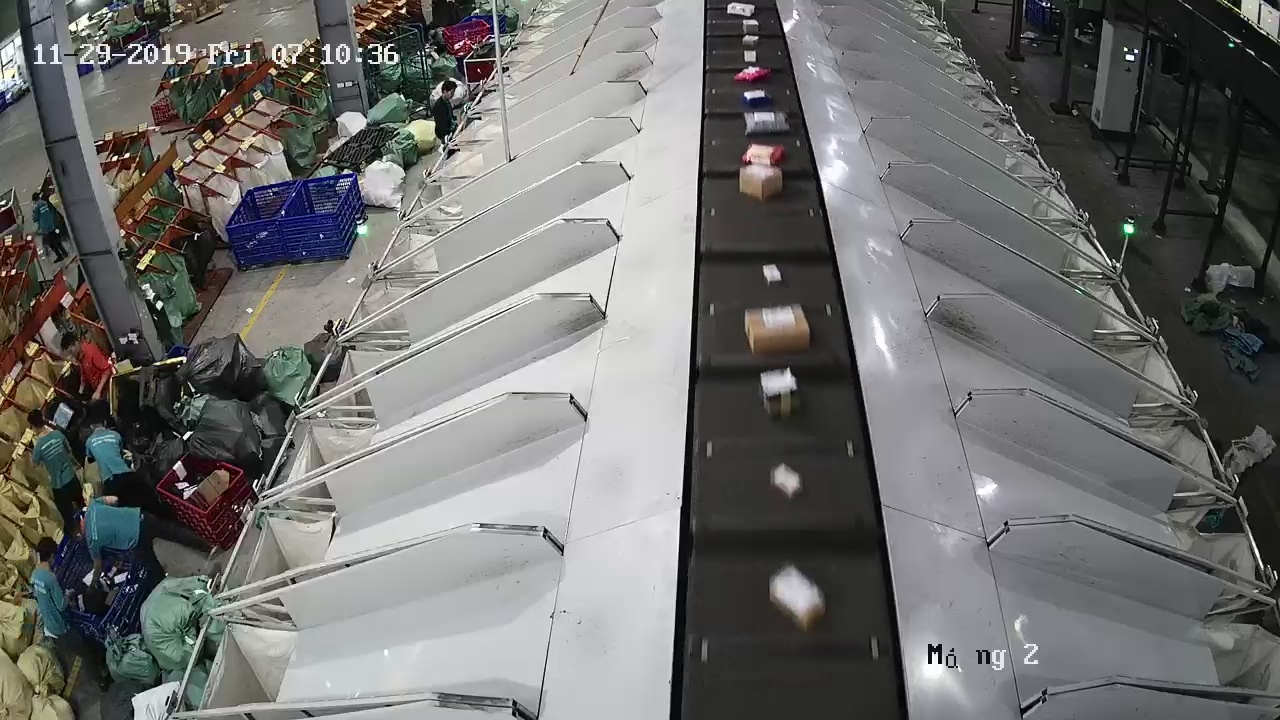parcel: (769, 564, 826, 633), (744, 303, 811, 355), (758, 366, 798, 416), (738, 164, 783, 201), (770, 462, 804, 501), (743, 111, 792, 137), (742, 141, 786, 166), (763, 262, 783, 287)
